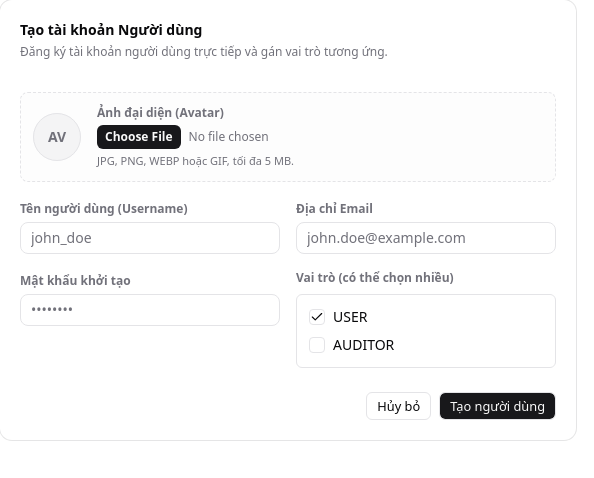
Test: <AddUserCard /> › shows field errors without invoking the mutation
Click the button "Tạo người dùng": (498, 406) [439,392,556,420]
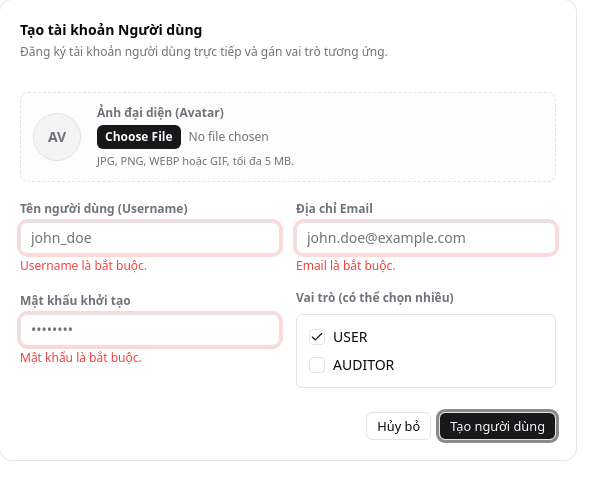
Expected: the text "Email là bắt buộc." is shown, [296,257,396,274]
Expected: the text "Username là bắt buộc." is shown, [20,257,147,274]
Expected: the text "Mật khẩu là bắt buộc." is shown, [20,349,142,366]
